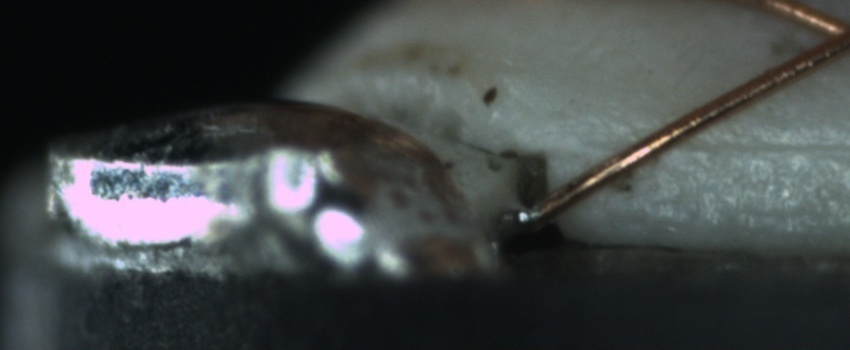CL: (798, 2, 850, 67)
DL: (670, 116, 849, 174)
TS: (501, 203, 541, 234)
